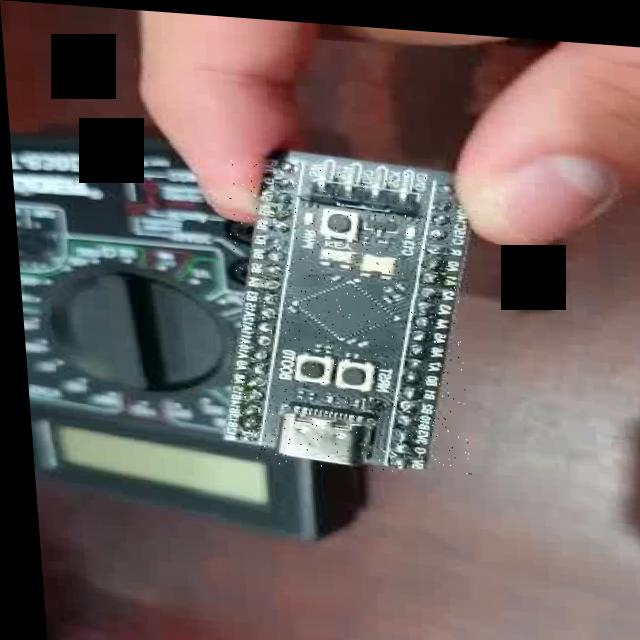multimeter: (10, 128, 284, 539)
stm32: (223, 156, 465, 472)
